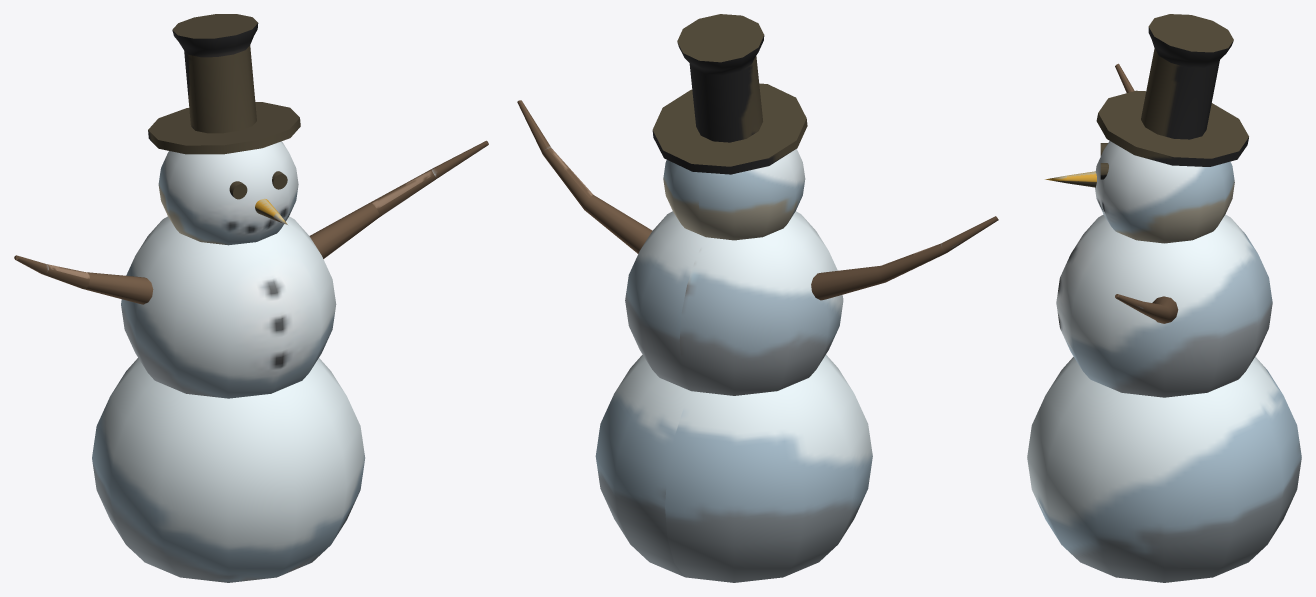
File: Snowman.fbx
The picture shows the model from 3 angles, left to right: view 1: azimuth 30°, elevation 25°; view 2: azimuth 150°, elevation 25°; view 3: azimuth 270°, elevation 25°; orthographic projection.
Visible parts, largest first — view 1: polySurface13, polySurface16, polySurface4, polySurface17; view 2: polySurface13, polySurface16, polySurface4, polySurface17; view 3: polySurface13, polySurface16, polySurface4, polySurface17.
Part boxes in pixels (x1,y1,x2,y2): polySurface13: (92,358,365,582); polySurface16: (14,140,488,398); polySurface4: (148,14,300,154); polySurface17: (158,141,298,245); polySurface13: (595,354,872,582); polySurface16: (517,100,998,395); polySurface4: (652,14,807,174); polySurface17: (663,149,805,240); polySurface13: (1027,357,1301,582); polySurface16: (1056,63,1272,397); polySurface4: (1096,14,1248,166); polySurface17: (1045,141,1234,243).
Size of the model in its own units: 172 by 178 by 85.93.
